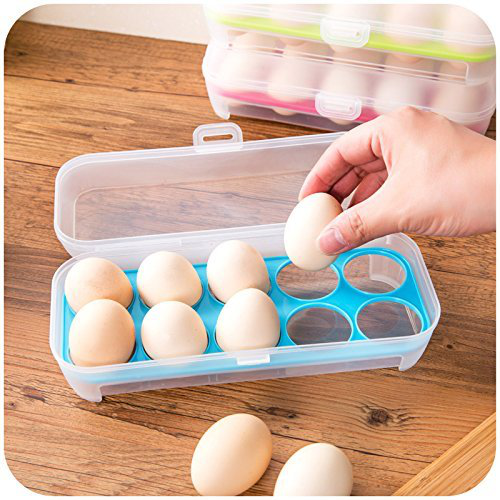egg: (49, 189, 346, 357), (180, 410, 354, 496)
